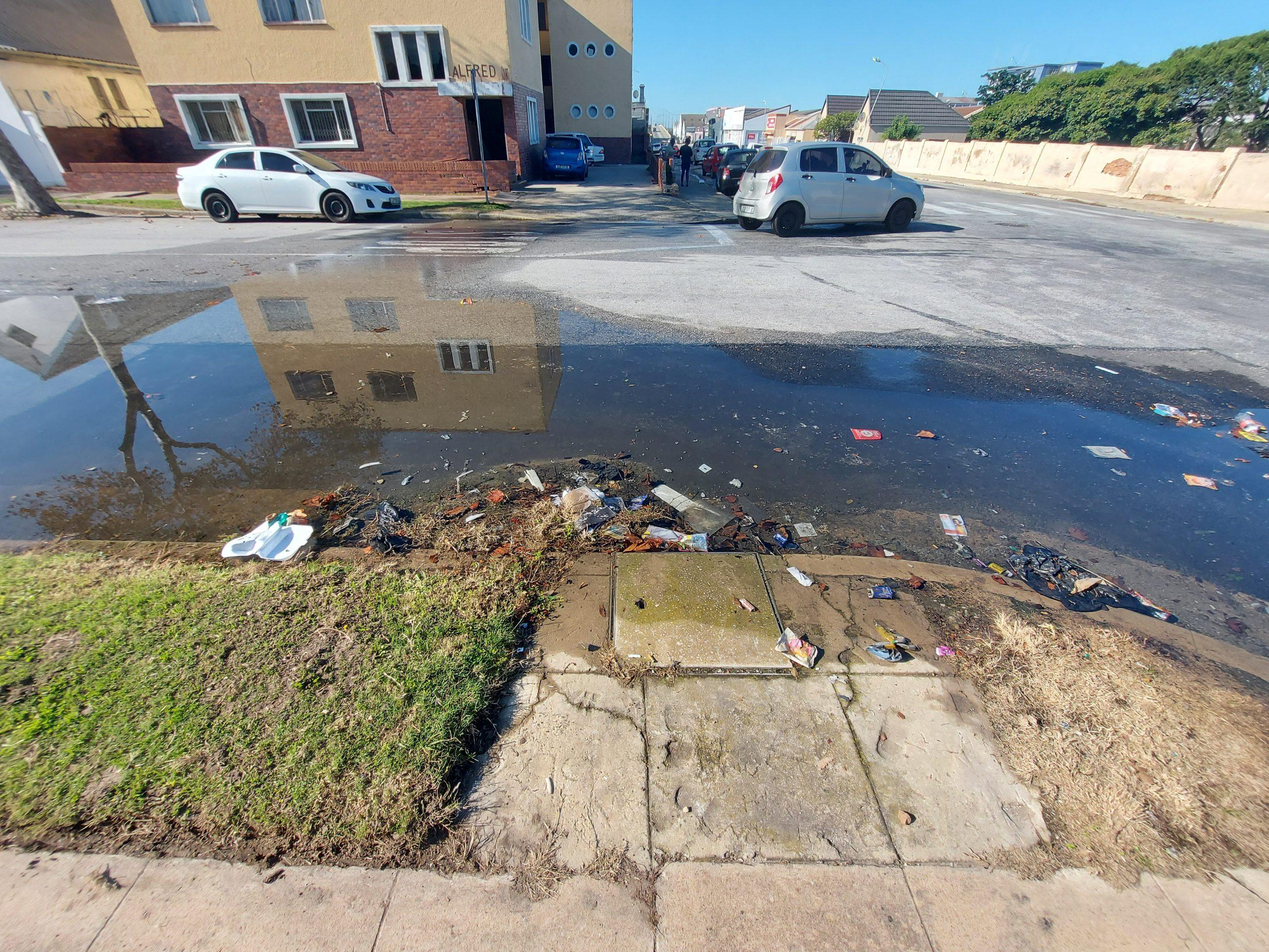water_leak: (2, 249, 1203, 456)
